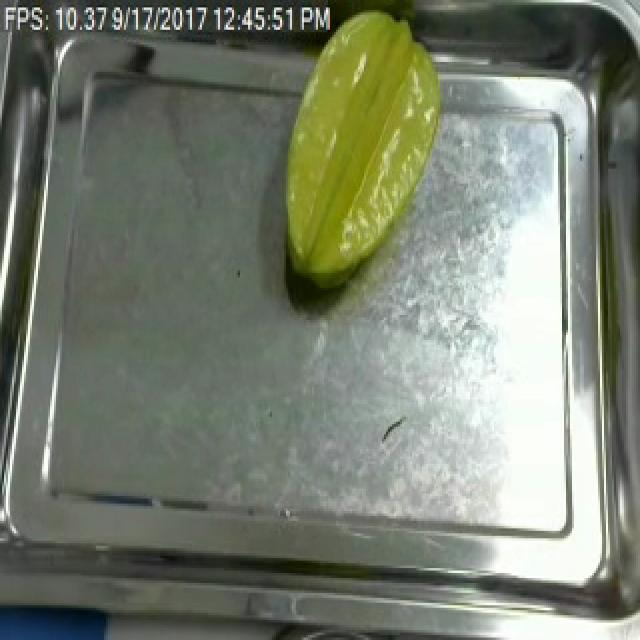fruit: (268, 5, 452, 303)
